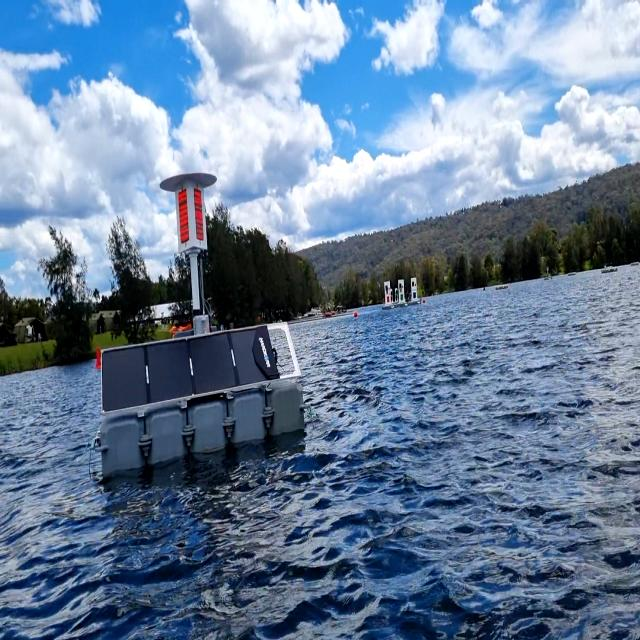led: (178, 191, 190, 243), (192, 188, 204, 240)
